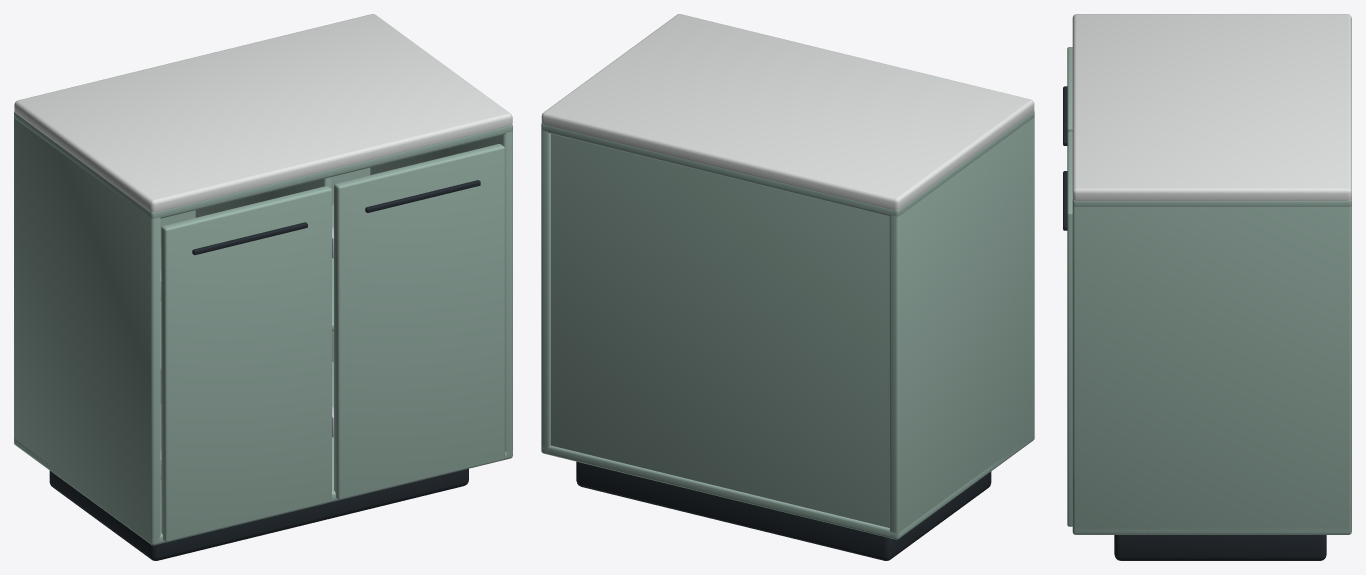
The model's file is base-cabinet.glb.
3 views of the same model, side by side, from view 1: azimuth 30°, elevation 25°; view 2: azimuth 150°, elevation 25°; view 3: azimuth 270°, elevation 25° (orthographic).
Visible parts, largest first — view 1: base-cabinet; view 2: base-cabinet; view 3: base-cabinet.
Part boxes in pixels (x1,y1,x2,y2): base-cabinet: [14, 14, 512, 560]; base-cabinet: [541, 14, 1034, 560]; base-cabinet: [1063, 14, 1351, 560].
Bounding box in the file's own units: 0.9 × 0.91 × 0.62.
